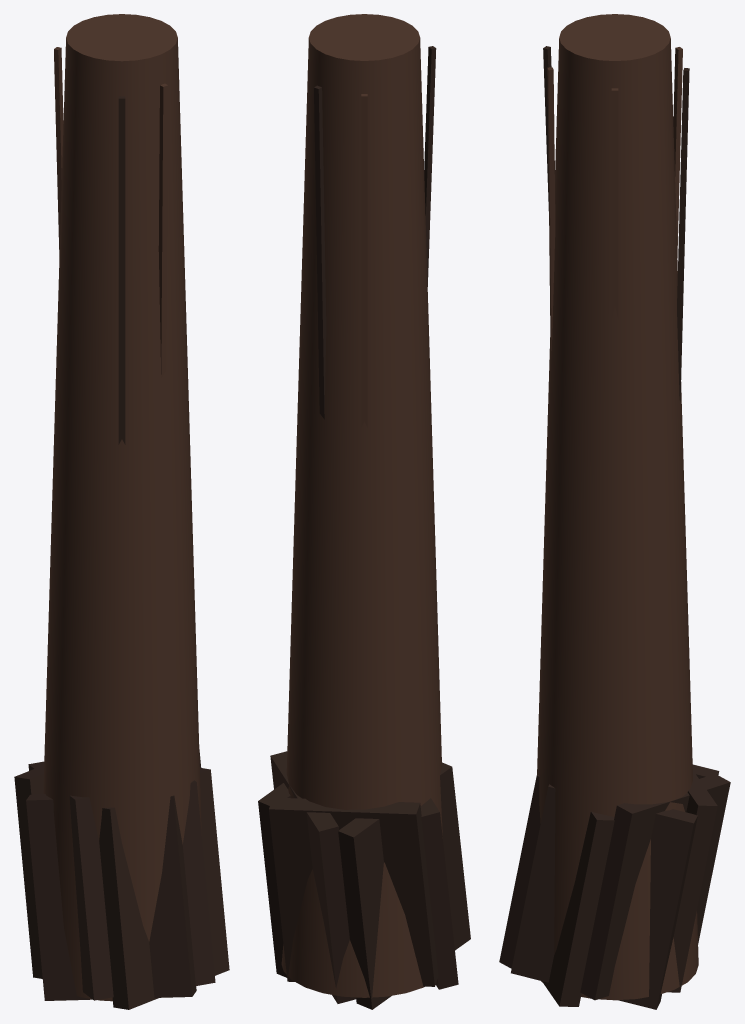
File: rainforest-trunk.glb
3 views of the same model, side by side, from view 1: azimuth 30°, elevation 25°; view 2: azimuth 150°, elevation 25°; view 3: azimuth 270°, elevation 25° (orthographic).
Visible parts, largest first — view 1: rainforest-trunk; view 2: rainforest-trunk; view 3: rainforest-trunk.
Boxes of the visible parts, x1=… form: rainforest-trunk: x1=14, y1=14, x2=229, y2=1009; rainforest-trunk: x1=258, y1=14, x2=470, y2=1009; rainforest-trunk: x1=499, y1=14, x2=730, y2=1009.
Bounding box in the file's own units: 1.7 × 8.92 × 1.99.
